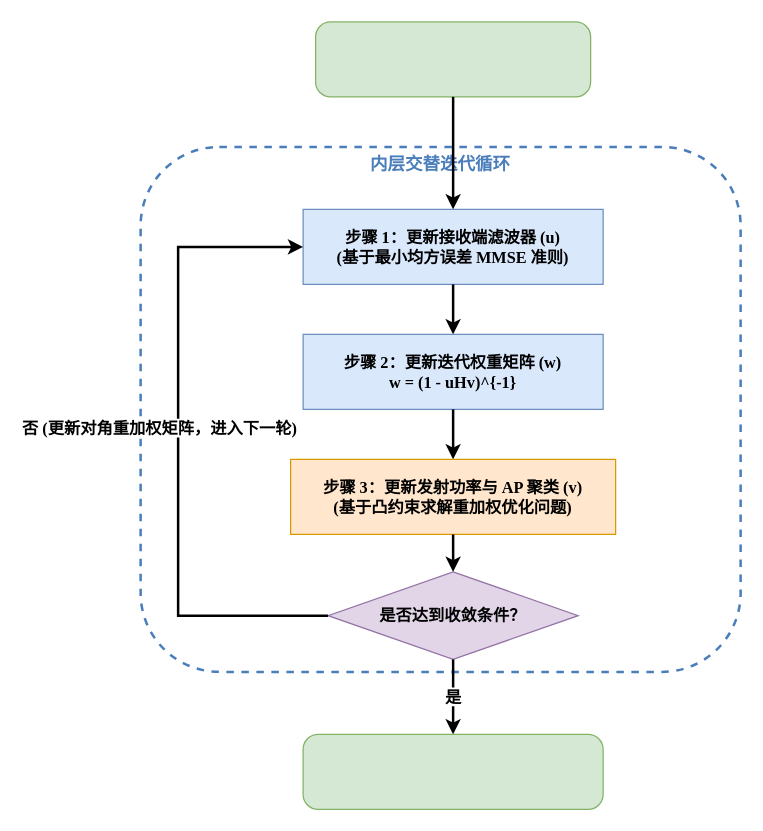
This 763x831 diagram has some shape labels left out. Here are the shapes that lost their labels. From the top down, the centre of each, then its label:
pixel 452 59: 开始： 初始化网络预编码与功率矩阵 (v)
pixel 452 771: 结束： 输出最优 AP 聚类矩阵与功率分配方案
